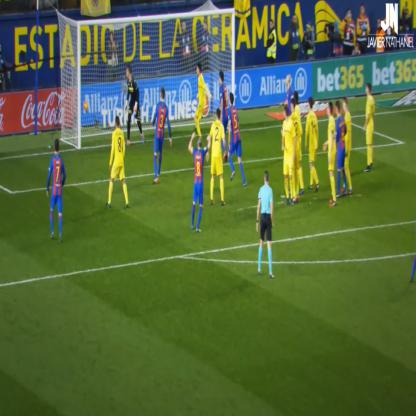goal: (48, 64, 107, 154)
